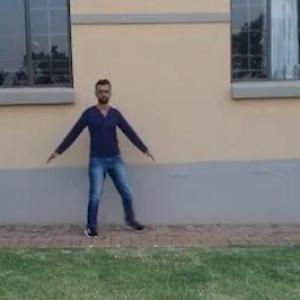land: (46, 83, 154, 247)
